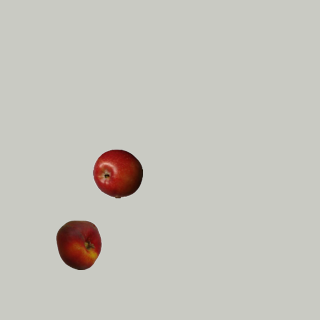Apple Braeburn: (92, 148, 142, 198)
Nectarine Flat: (53, 219, 103, 269)
